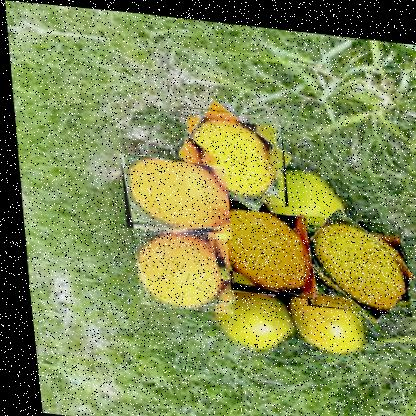orange: (292, 207, 406, 309), (175, 101, 285, 200), (114, 151, 227, 235), (204, 201, 307, 293), (125, 219, 227, 310)
